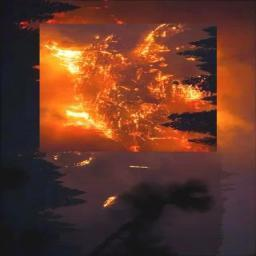Large fire: (42, 17, 221, 154)
Small fire: (73, 156, 98, 170), (100, 193, 118, 211)
